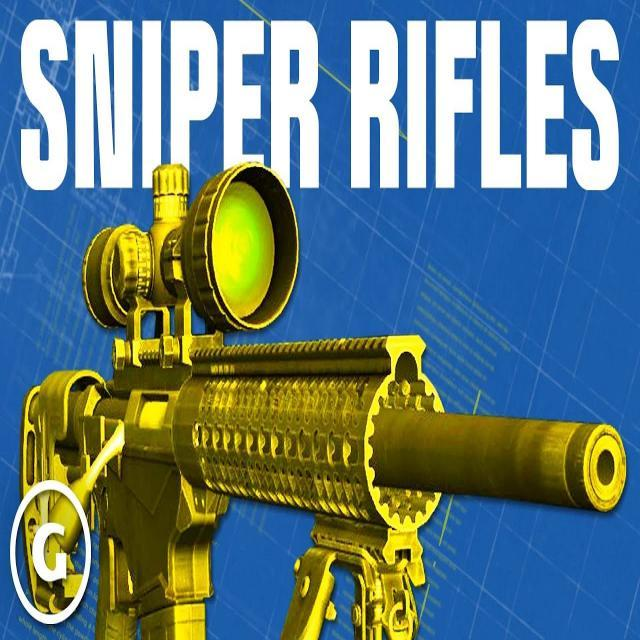scope: (90, 169, 315, 344)
sniper rifle: (28, 201, 618, 640)
